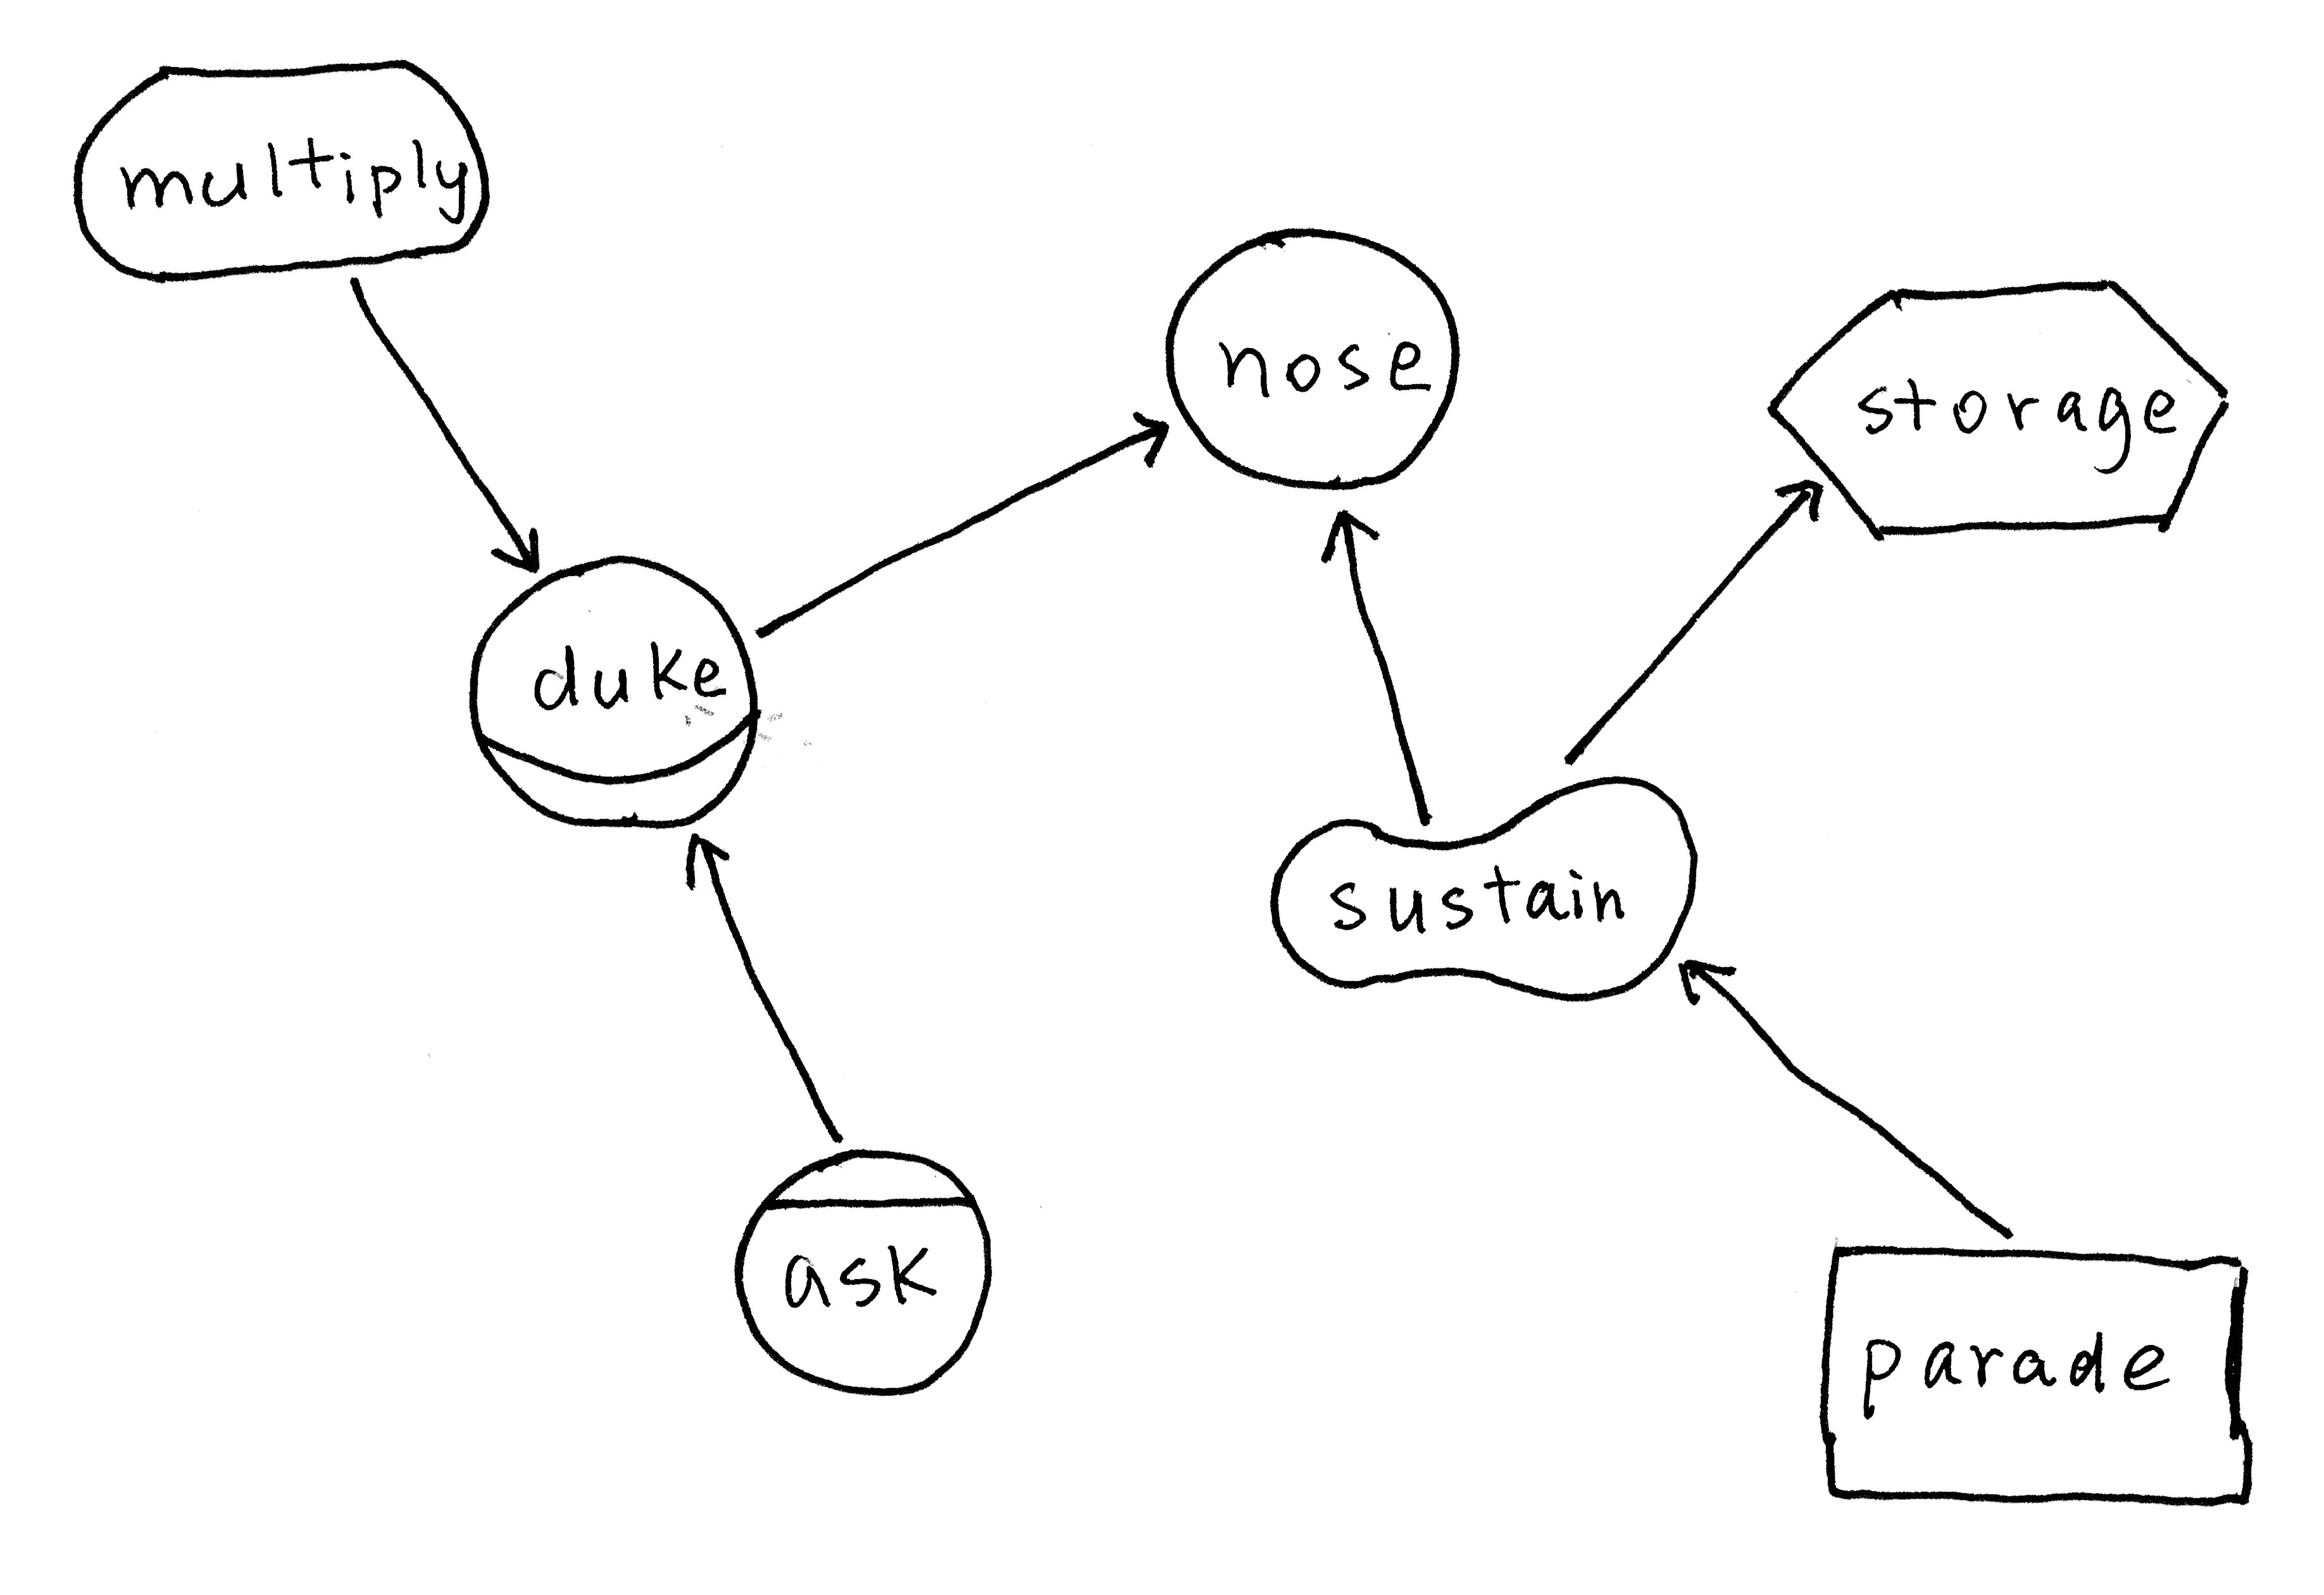actor: (1151, 203, 1487, 507)
agent: (715, 1123, 1008, 1420)
arrow: (1664, 931, 1754, 1021), (1302, 495, 1397, 576), (655, 818, 749, 897), (1125, 390, 1188, 488), (477, 514, 562, 581), (1768, 461, 1828, 553)
goal: (55, 44, 510, 299)
quality: (1250, 745, 1713, 1021)
resource: (1801, 1224, 2273, 1523)
role: (445, 537, 781, 846)
task: (1757, 260, 2246, 576)
